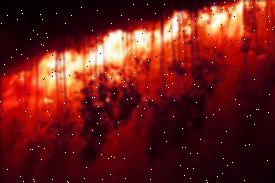fire: (32, 21, 156, 99), (158, 0, 270, 46)
